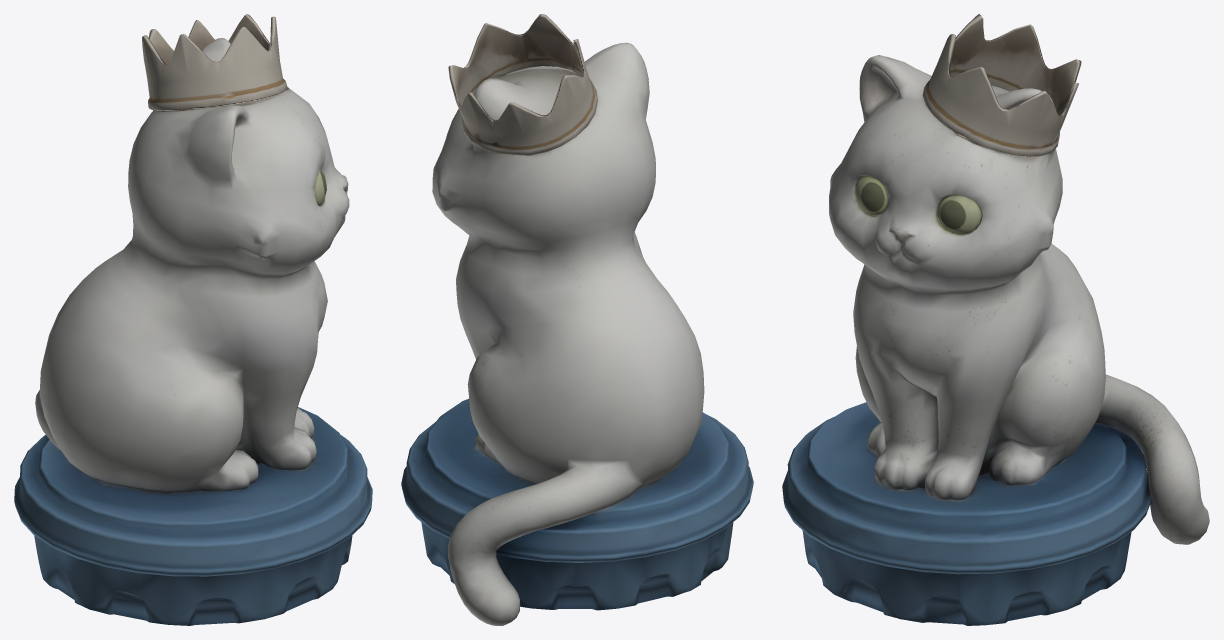
The model's file is figurine-bin-king.glb.
The picture shows the model from 3 angles, left to right: view 1: azimuth 30°, elevation 25°; view 2: azimuth 150°, elevation 25°; view 3: azimuth 270°, elevation 25°; orthographic projection. The views are drawn at different scales.
Parts seen in each view (by area): view 1: tripo_node_142beafa-18c7-4332-ad66-6a44ba0ee396; view 2: tripo_node_142beafa-18c7-4332-ad66-6a44ba0ee396; view 3: tripo_node_142beafa-18c7-4332-ad66-6a44ba0ee396.
Part boxes in pixels (box(x1,y1,x2,y2)): tripo_node_142beafa-18c7-4332-ad66-6a44ba0ee396: box(14, 14, 372, 625); tripo_node_142beafa-18c7-4332-ad66-6a44ba0ee396: box(401, 14, 753, 625); tripo_node_142beafa-18c7-4332-ad66-6a44ba0ee396: box(782, 14, 1209, 625).
Bounding box in the file's own units: 0.6138 × 0.9995 × 0.7084.
1 material, 1 textured.
